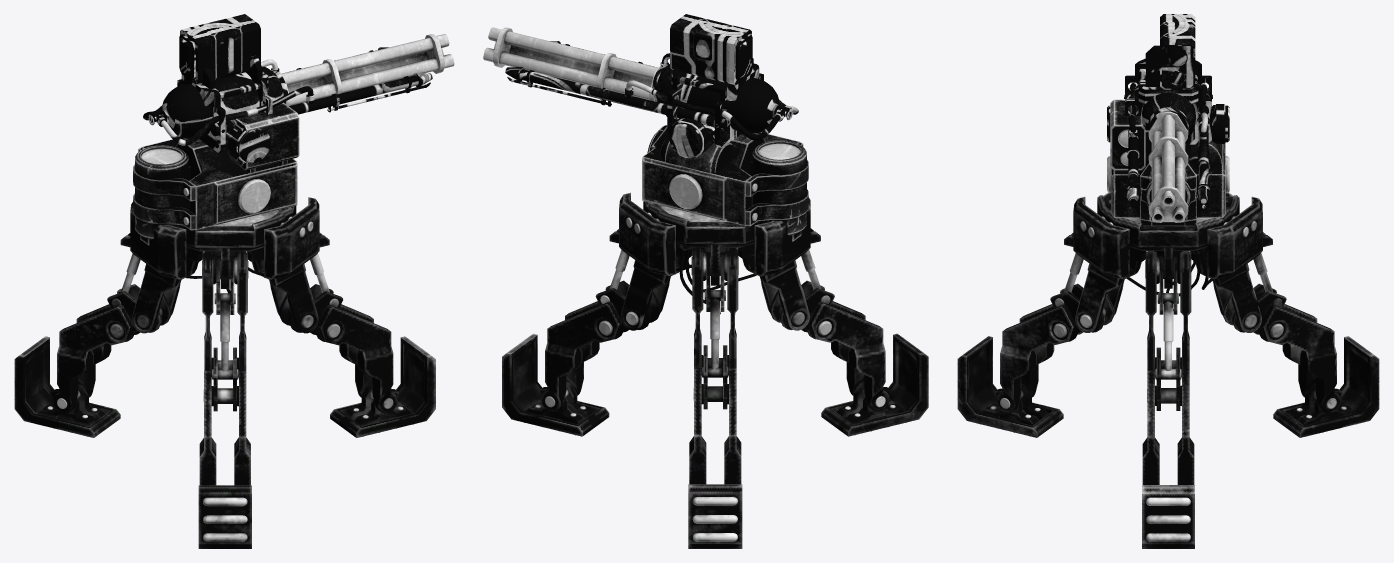
Rendered from Gun_Turret2.fbx.
3 renders of one model, left to right at view 1: azimuth 30°, elevation 25°; view 2: azimuth 150°, elevation 25°; view 3: azimuth 270°, elevation 25°, orthographic.
Parts seen in each view (by area): view 1: S_Base, S_Head_Flamer, S_Head_Gun_Body, S_Head_Gun_Barrel; view 2: S_Base, S_Head_Flamer, S_Head_Gun_Body, S_Head_Gun_Barrel; view 3: S_Base, S_Head_Flamer, S_Head_Gun_Body, S_Head_Gun_Barrel.
Boxes of the visible parts, <box> form: S_Base: <box>14,197,435,548</box>; S_Head_Flamer: <box>143,14,432,163</box>; S_Head_Gun_Body: <box>133,102,299,245</box>; S_Head_Gun_Barrel: <box>278,34,454,106</box>; S_Base: <box>502,192,928,548</box>; S_Head_Flamer: <box>505,14,798,158</box>; S_Head_Gun_Body: <box>642,125,808,241</box>; S_Head_Gun_Barrel: <box>483,27,661,101</box>; S_Base: <box>957,192,1379,548</box>; S_Head_Flamer: <box>1107,14,1229,208</box>; S_Head_Gun_Body: <box>1107,99,1229,225</box>; S_Head_Gun_Barrel: <box>1148,112,1188,222</box>.
Bounding box in the file's own units: 145 × 176 × 156.
